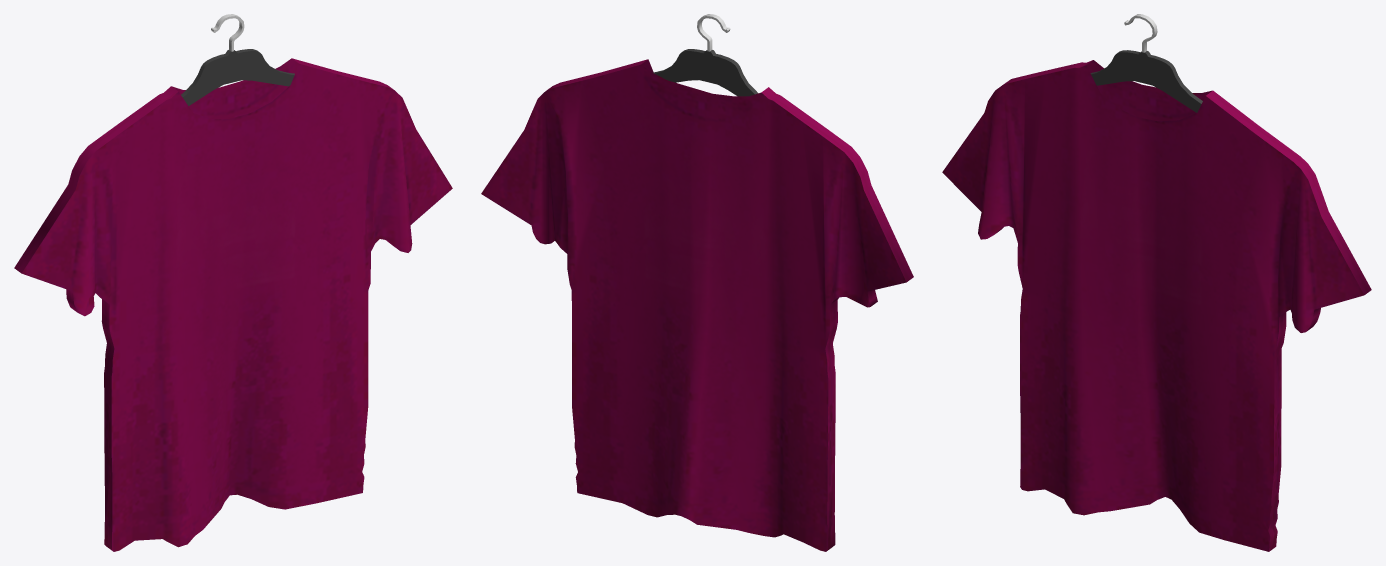
The model's file is TShirt_Hanging_Pink.fbx.
3 renders of one model, left to right at view 1: azimuth 30°, elevation 25°; view 2: azimuth 150°, elevation 25°; view 3: azimuth 330°, elevation 25°, orthographic.
Visible parts, largest first — view 1: TShirt, Hanger; view 2: TShirt, Hanger; view 3: TShirt, Hanger.
Boxes of the visible parts, x1,y1,x2,y2 form: TShirt: (14,58,452,551); Hanger: (181,49,294,105); TShirt: (481,59,913,551); Hanger: (653,49,757,96); TShirt: (942,60,1371,551); Hanger: (1090,50,1202,112).
Bounding box in the file's own units: 0.8189 × 0.9312 × 0.094.
